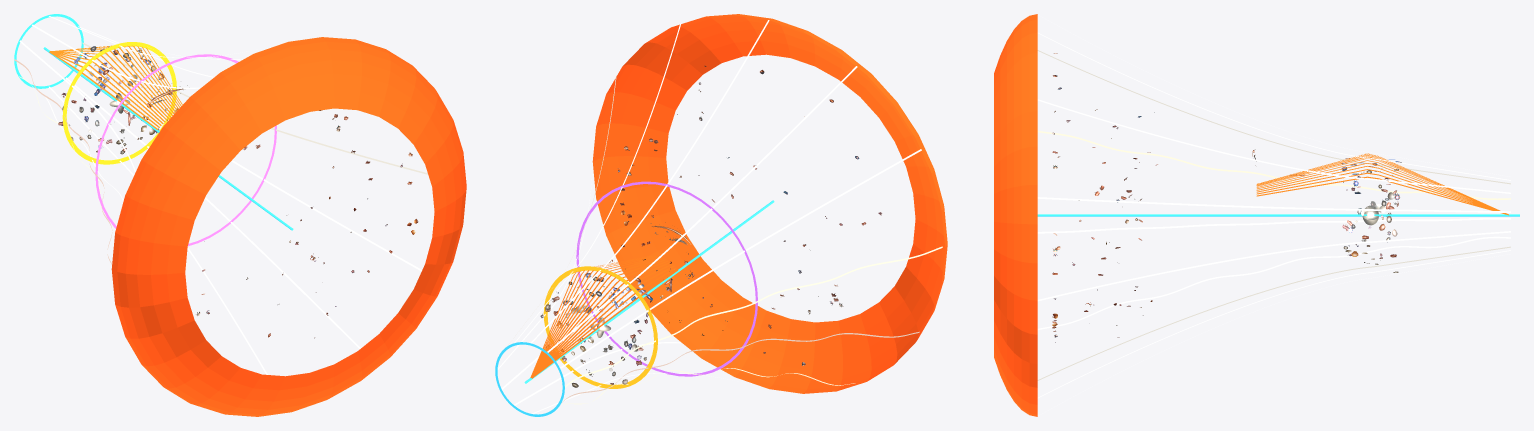
File: jwst_harmonic_cosmic_cylinder.glb
3 views of the same model, side by side, from view 1: azimuth 30°, elevation 25°; view 2: azimuth 150°, elevation 25°; view 3: azimuth 270°, elevation 25° (orthographic).
Parts seen in each view (by area): view 1: 12_Big_Bang_Recombination_Dome, 13_Harmonic_Lattice_Ribs, 05_Gravitational_Light_Rays, 03_Einstein_Lens_Ring, 08_Cosmic_Noon_Ring, 07_Cluster_Galaxies_Zone, 01_Optical_Axis_Spine, 02_Observer_Gate_JWST; view 2: 12_Big_Bang_Recombination_Dome, 13_Harmonic_Lattice_Ribs, 05_Gravitational_Light_Rays, 08_Cosmic_Noon_Ring, 03_Einstein_Lens_Ring, 07_Cluster_Galaxies_Zone, 01_Optical_Axis_Spine, 02_Observer_Gate_JWST, 10_Deep_Field_Galaxies; view 3: 12_Big_Bang_Recombination_Dome, 13_Harmonic_Lattice_Ribs, 05_Gravitational_Light_Rays, 01_Optical_Axis_Spine, 07_Cluster_Galaxies_Zone, 10_Deep_Field_Galaxies.
Boxes of the visible parts, x1=… form: 12_Big_Bang_Recombination_Dome: x1=111, y1=37, x2=466, y2=416; 13_Harmonic_Lattice_Ribs: x1=14, y1=16, x2=440, y2=374; 05_Gravitational_Light_Rays: x1=49, y1=45, x2=182, y2=129; 03_Einstein_Lens_Ring: x1=62, y1=42, x2=176, y2=164; 08_Cosmic_Noon_Ring: x1=95, y1=54, x2=276, y2=246; 07_Cluster_Galaxies_Zone: x1=58, y1=46, x2=178, y2=154; 01_Optical_Axis_Spine: x1=43, y1=47, x2=293, y2=230; 02_Observer_Gate_JWST: x1=14, y1=14, x2=83, y2=88; 12_Big_Bang_Recombination_Dome: x1=592, y1=14, x2=947, y2=393; 13_Harmonic_Lattice_Ribs: x1=497, y1=20, x2=942, y2=413; 05_Gravitational_Light_Rays: x1=530, y1=256, x2=677, y2=378; 08_Cosmic_Noon_Ring: x1=576, y1=181, x2=757, y2=376; 03_Einstein_Lens_Ring: x1=543, y1=266, x2=657, y2=388; 07_Cluster_Galaxies_Zone: x1=540, y1=273, x2=652, y2=387; 01_Optical_Axis_Spine: x1=524, y1=200, x2=774, y2=383; 02_Observer_Gate_JWST: x1=495, y1=342, x2=564, y2=416; 10_Deep_Field_Galaxies: x1=609, y1=65, x2=881, y2=365; 12_Big_Bang_Recombination_Dome: x1=994, y1=14, x2=1037, y2=416; 13_Harmonic_Lattice_Ribs: x1=1037, y1=15, x2=1510, y2=415; 05_Gravitational_Light_Rays: x1=1256, y1=153, x2=1508, y2=215; 01_Optical_Axis_Spine: x1=1037, y1=214, x2=1519, y2=216; 07_Cluster_Galaxies_Zone: x1=1341, y1=158, x2=1401, y2=272; 10_Deep_Field_Galaxies: x1=1052, y1=53, x2=1157, y2=342.
Size of the model in its own units: 230 by 230 by 310.
Materials: 1 (1 with a texture image).
